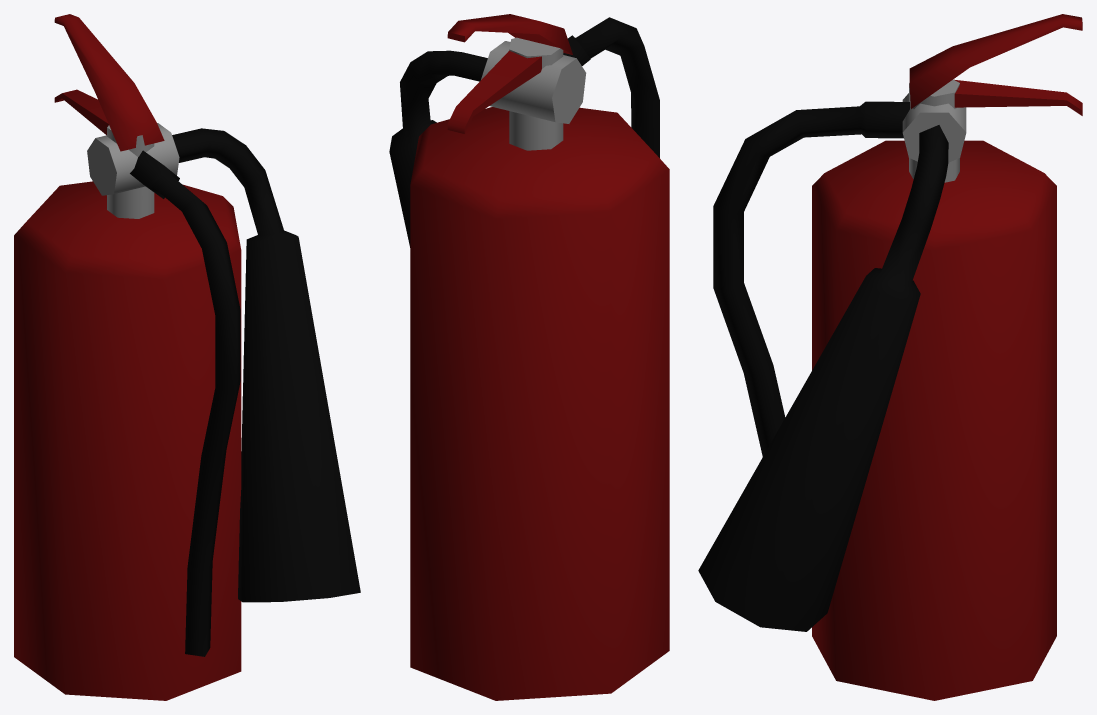
File: SM_FireExtinguishers.fbx
3 views of the same model, side by side, from view 1: azimuth 30°, elevation 25°; view 2: azimuth 150°, elevation 25°; view 3: azimuth 270°, elevation 25° (orthographic). The views are drawn at different scales.
Visible parts, largest first — view 1: Cylinder003, Cylinder004; view 2: Cylinder003, Cylinder004; view 3: Cylinder003, Cylinder004.
Part boxes in pixels (<box>): Cylinder003: <box>14,14,241,700</box>; Cylinder004: <box>172,128,360,602</box>; Cylinder003: <box>410,14,669,700</box>; Cylinder004: <box>389,50,487,247</box>; Cylinder003: <box>713,14,1082,700</box>; Cylinder004: <box>698,125,948,631</box>.
Bounding box in the file's own units: 37.67 × 49.54 × 89.55.
